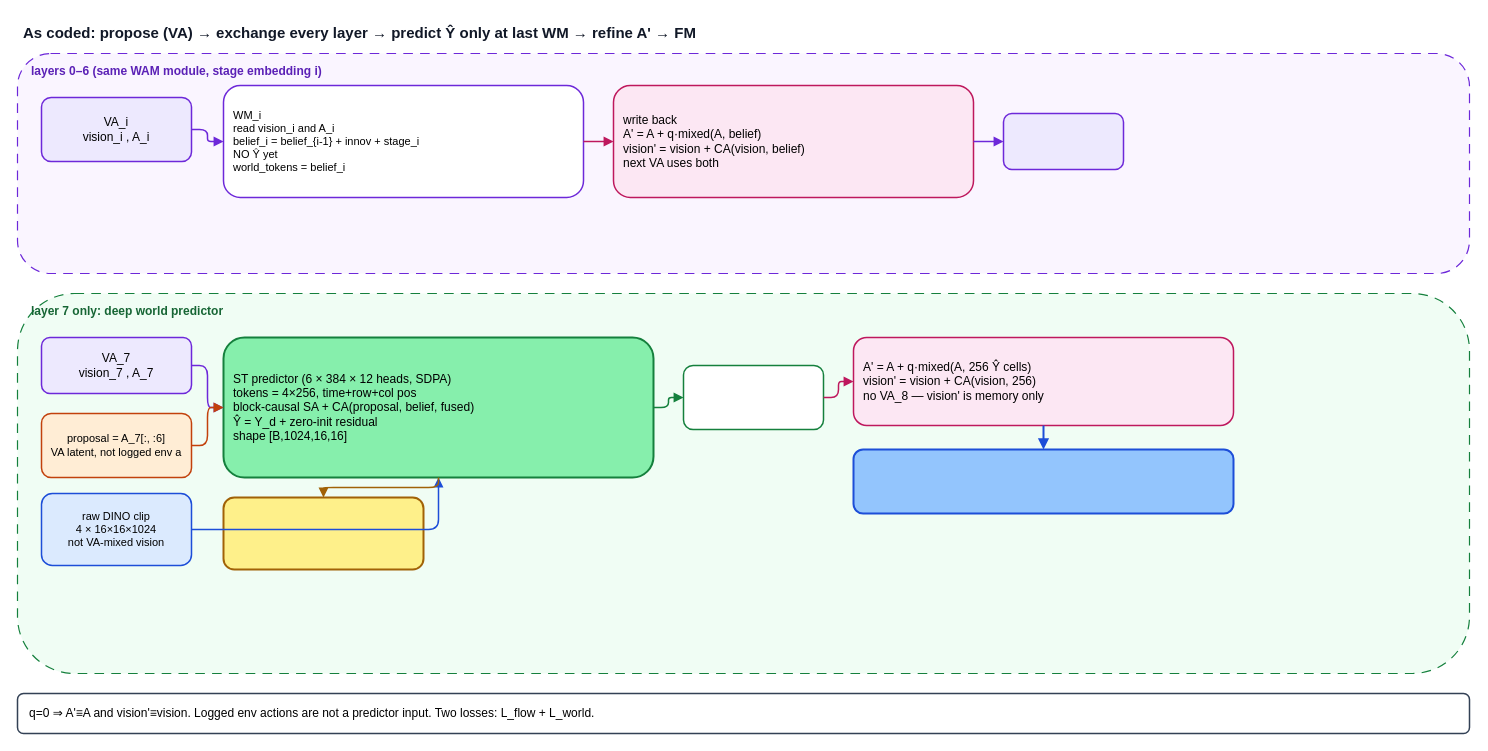
Image size: 1488x751. Some labels were removed from this diagram. The centre of each missing label's shape, as x and y in pixels:
256 cells 1024→512 only: point (753, 397)
L_world MSE(Ŷ, Y_{d+6}) stop-grad DINO: point (323, 533)
LN(A') → Flow Matching → 7-D L_flow only action head: point (1043, 481)
VA_{i+1}: point (1063, 141)
